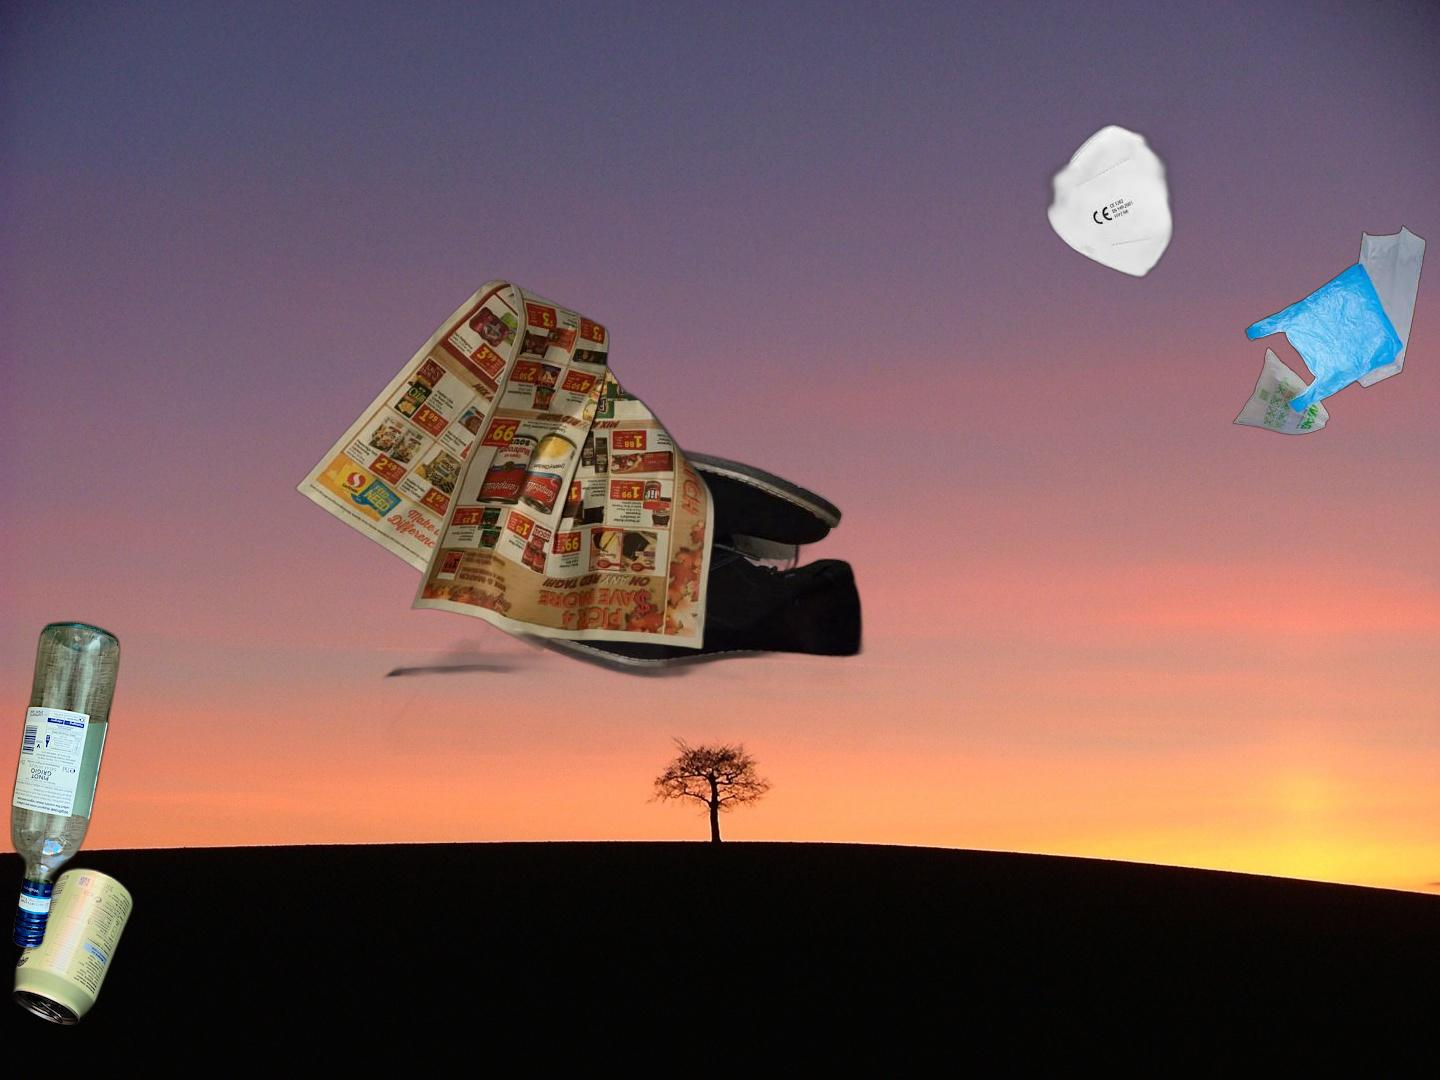glass: (6, 617, 124, 955)
metal-cans: (8, 861, 137, 1032)
paper: (293, 278, 720, 653)
plastic-bag: (1231, 223, 1428, 438)
shoes: (381, 377, 889, 756)
trash: (985, 99, 1192, 282)
